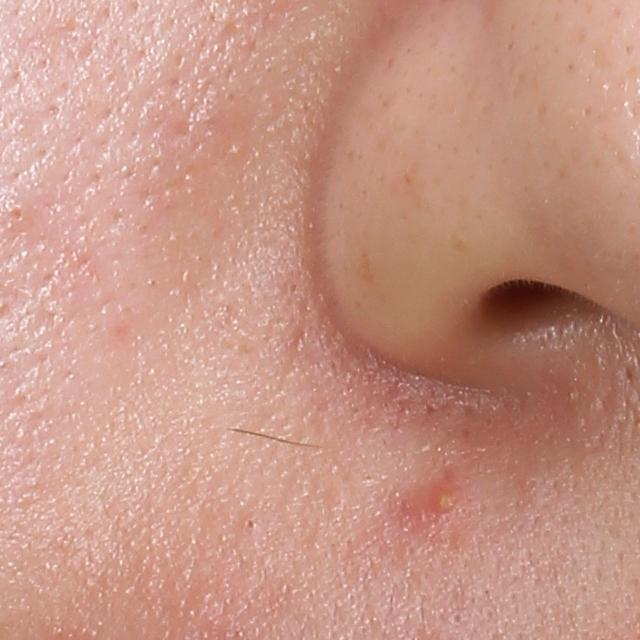comedo: (3, 200, 32, 228), (448, 605, 467, 626), (241, 517, 257, 533)
pustule: (425, 484, 464, 518)
